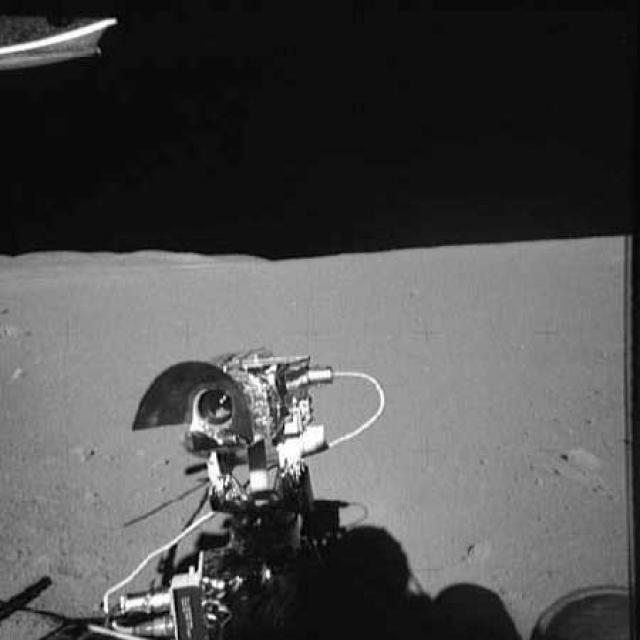artifact: (17, 330, 401, 639), (0, 12, 122, 67)
crater: (550, 441, 600, 475), (455, 536, 491, 565)
